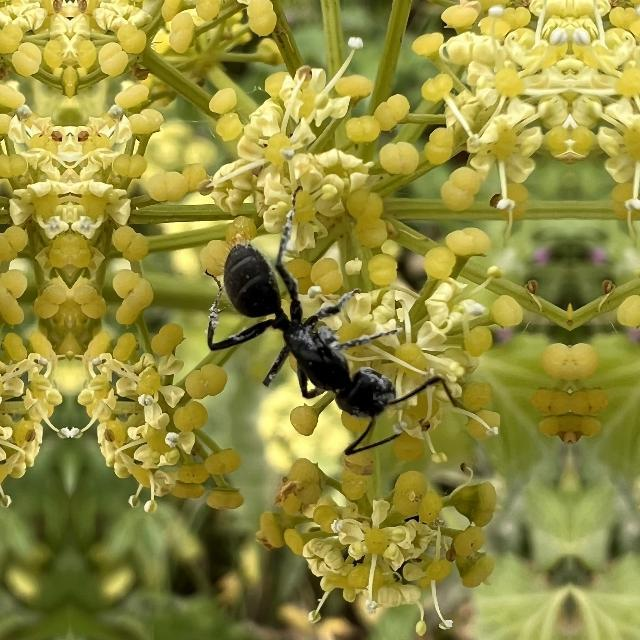Camponotus: (196, 223, 424, 469)
